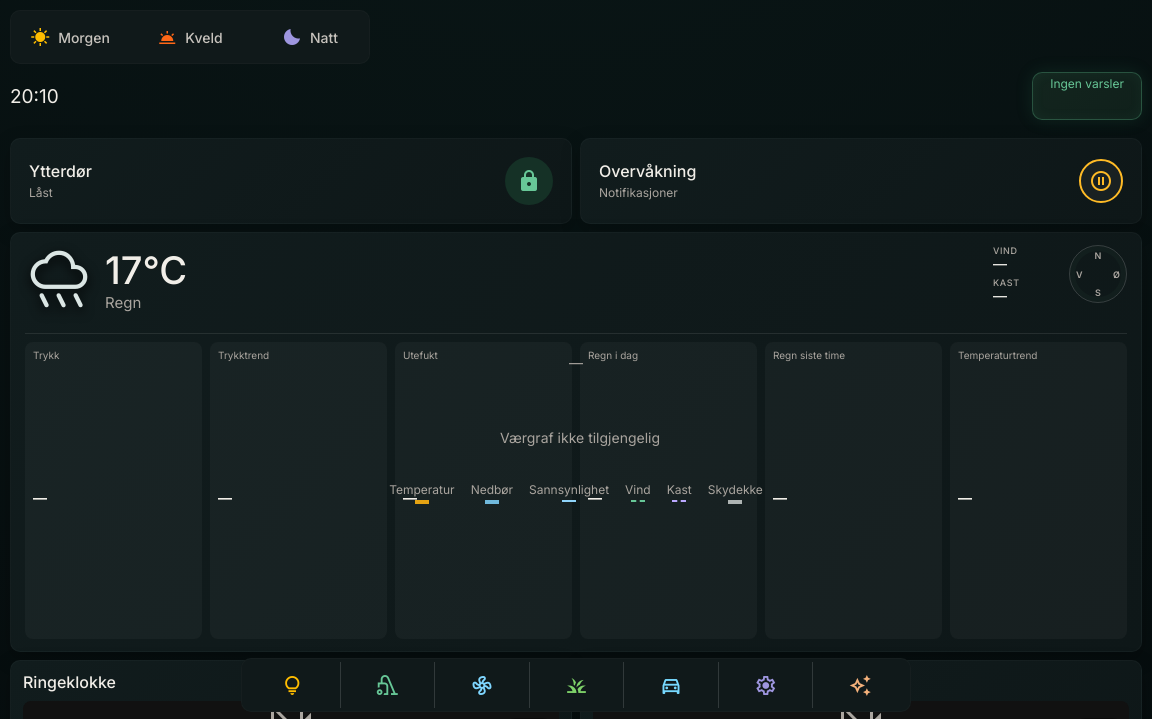
it: redesigned dashboard › opens the floor-grouped lights dialog and keeps only one room expanded
Click the button named "Styr lys".
click(292, 685)  # box [245, 662, 340, 708]
(page scrolled)
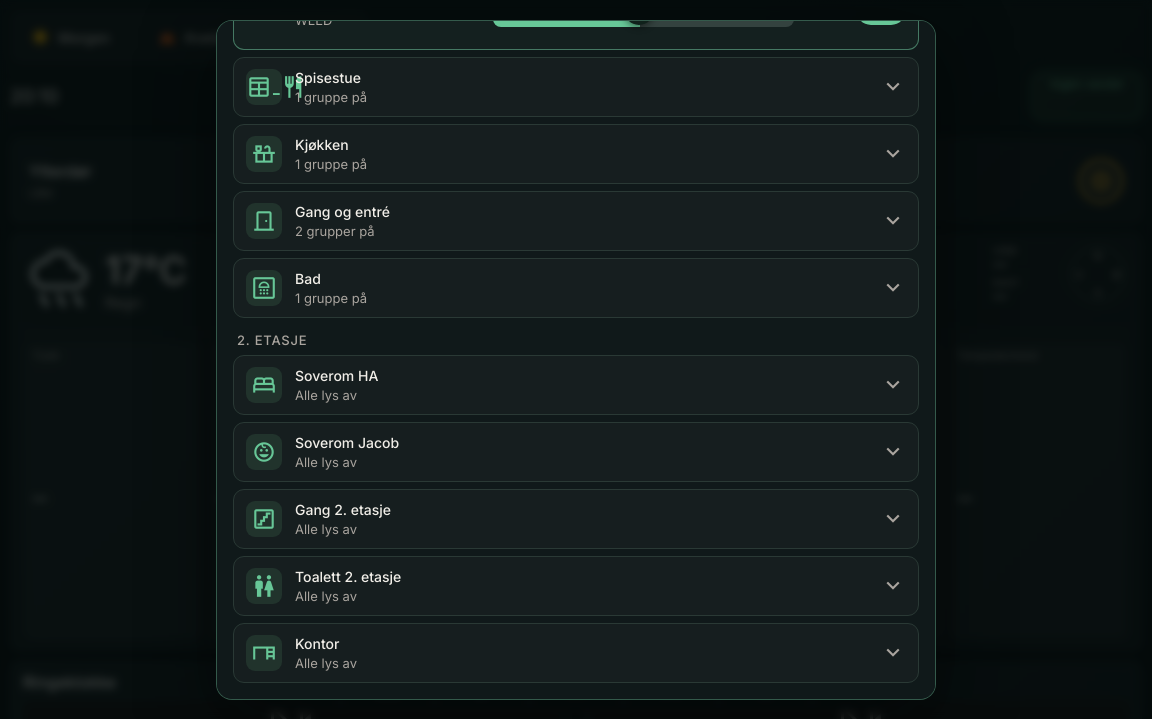
Expected: the dialog "Lys i huset" is shown, [216, 20, 936, 700]
Click the button "Soverom Jacob Alle lys av".
click(264, 452)  # box [234, 423, 918, 481]
(page scrolled)
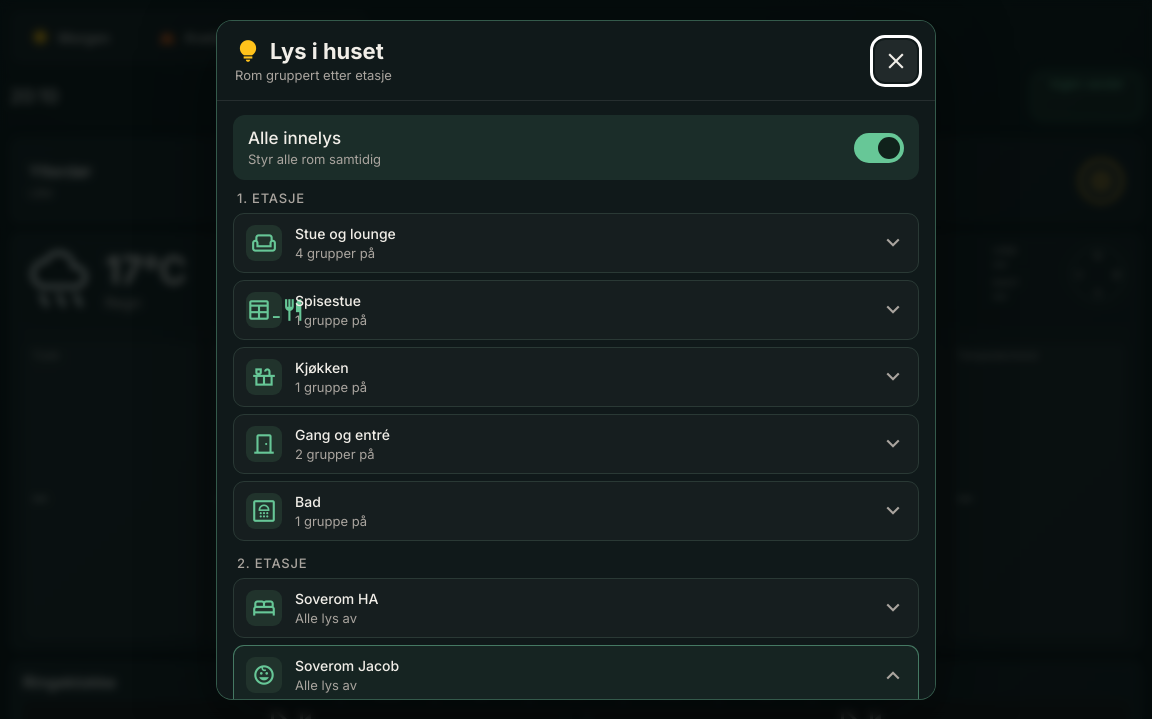
Expected: the button "Soverom Jacob Alle lys av" is expanded, [234, 646, 918, 700]
Click the button "Spisestue 1 gruppe på".
click(264, 310)  # box [234, 281, 918, 339]
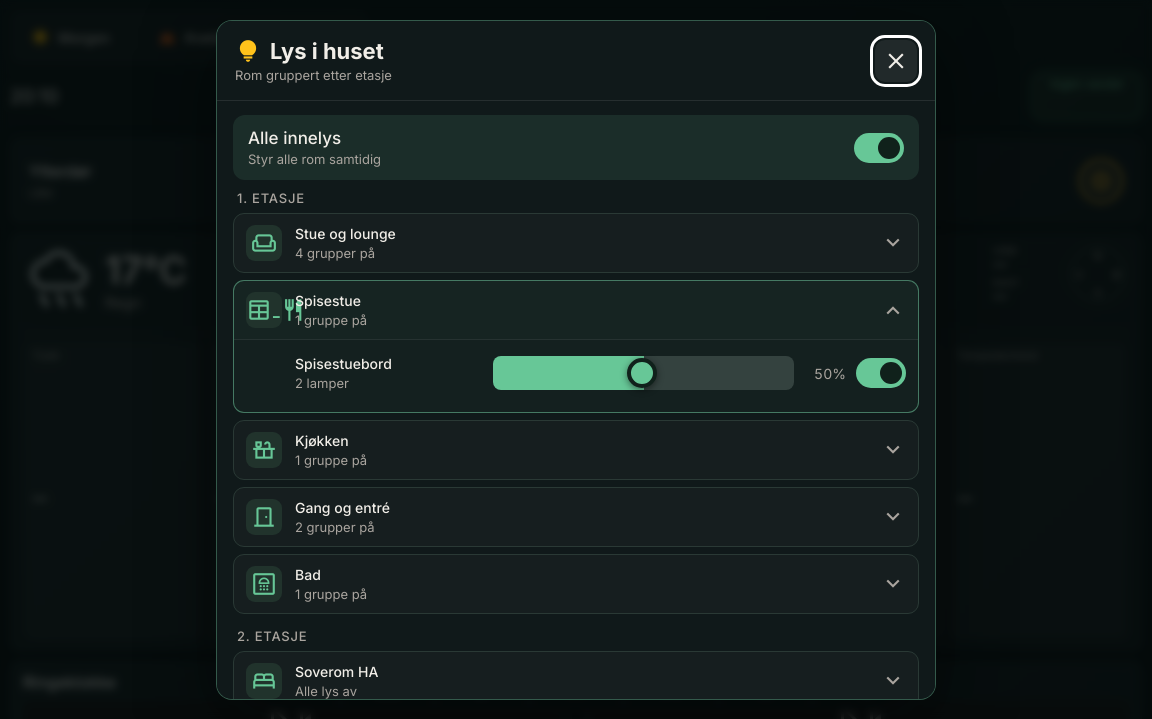
Expected: the slider named "Spisestuebord lysstyrke" is shown, [493, 356, 794, 390]
